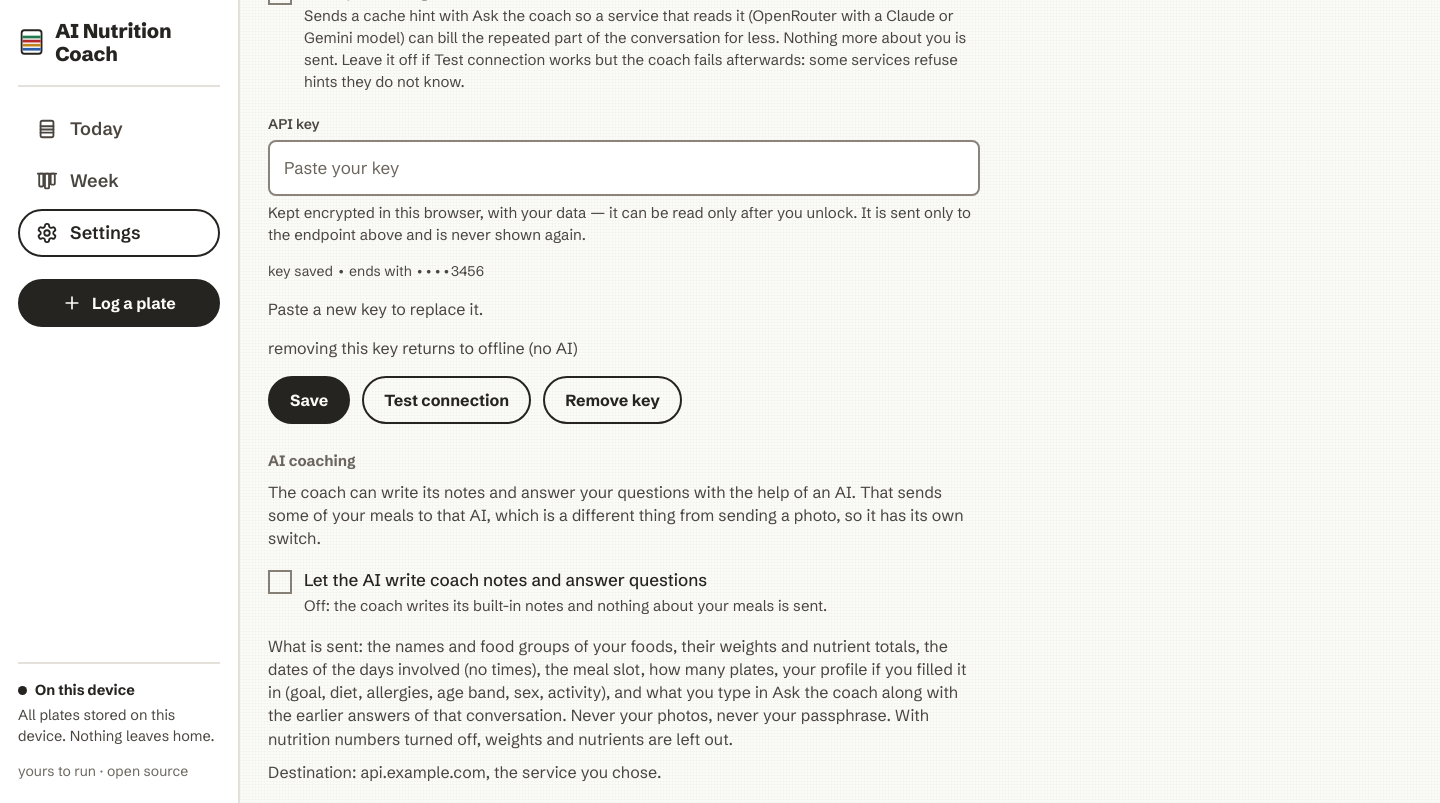
Test case: YourAiScreen › Remove key clears the key and returns to No AI
(page scrolled)
Expected: the text "key saved • ends with ••••3456" is shown, [268,262,484,280]
Expected: the text "removing this key returns to offline (no AI)" is shown, [268,338,578,358]
Click the button "Remove key". click: (612, 400)
box: [543,376,682,424]
(page scrolled)
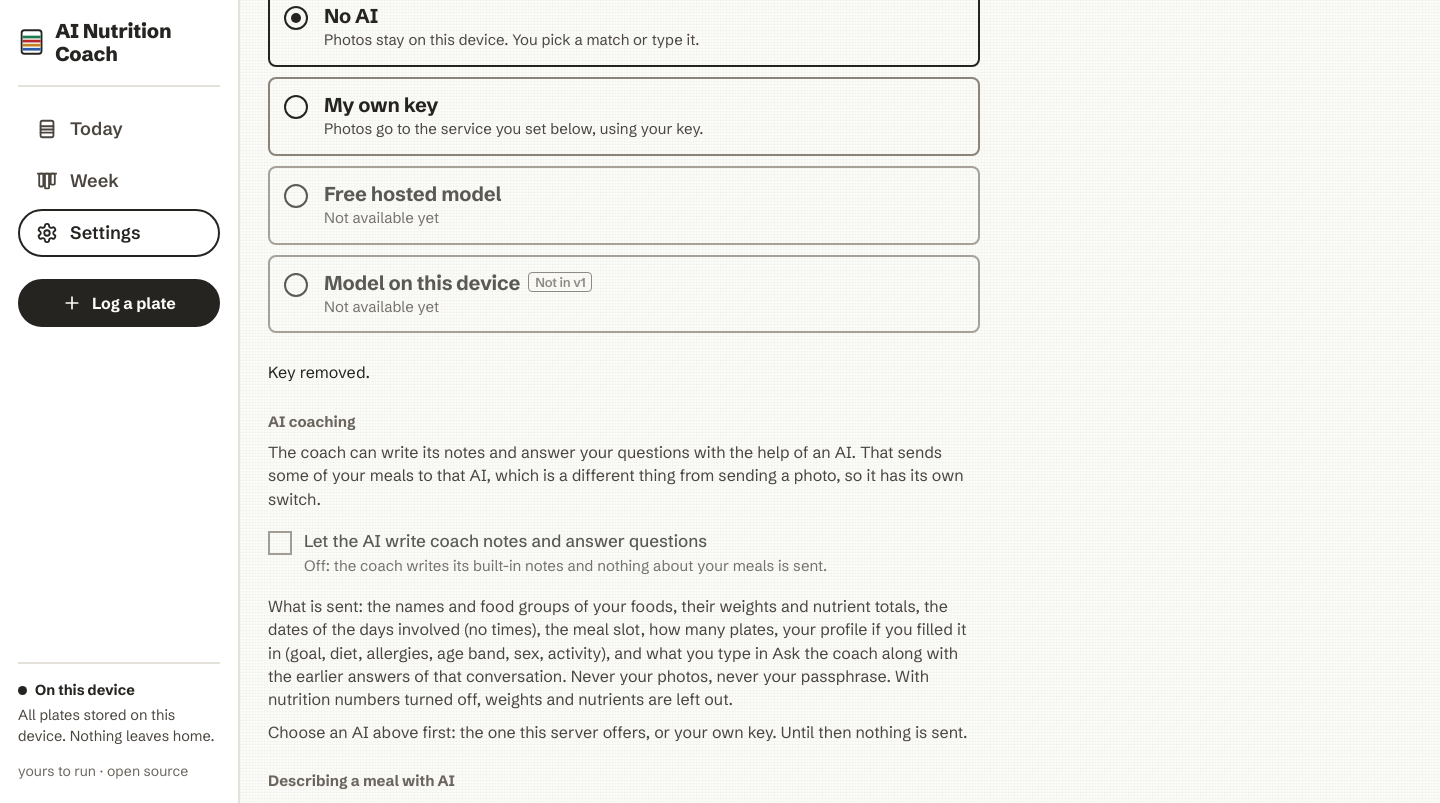
Expected: the text "Key removed." is shown, [268,362,370,382]
Expected: the text "••••" is gone
